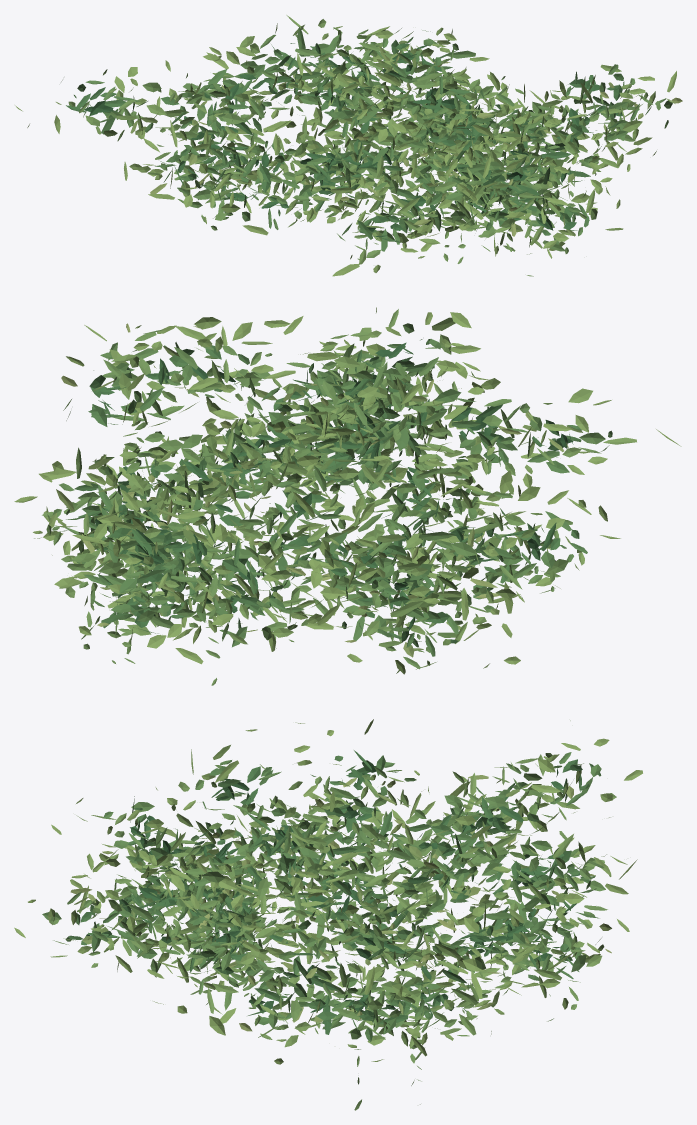
Rendered from holy_canopy3_refined.glb.
3 renders of one model, top to bottom at view 1: azimuth 30°, elevation 25°; view 2: azimuth 150°, elevation 25°; view 3: azimuth 270°, elevation 25°, orthographic. The views are drawn at different scales.
Visible parts, largest first — view 1: holy_canopy3; view 2: holy_canopy3; view 3: holy_canopy3.
Part boxes in pixels (x1=…): holy_canopy3: x1=15, y1=15, x2=682, y2=276; holy_canopy3: x1=14, y1=307, x2=681, y2=685; holy_canopy3: x1=14, y1=719, x2=642, y2=1110.
Bounding box in the file's own units: 18.65 × 8.92 × 19.02.
1 material, 1 textured.
